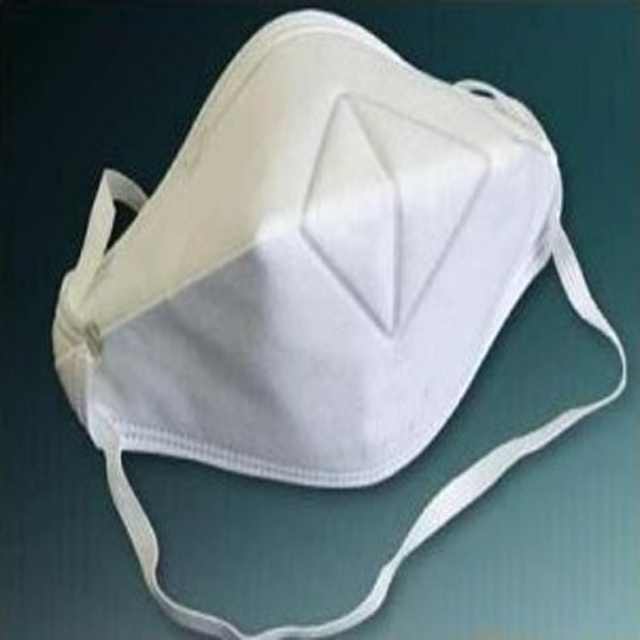mask: (47, 8, 629, 640)
